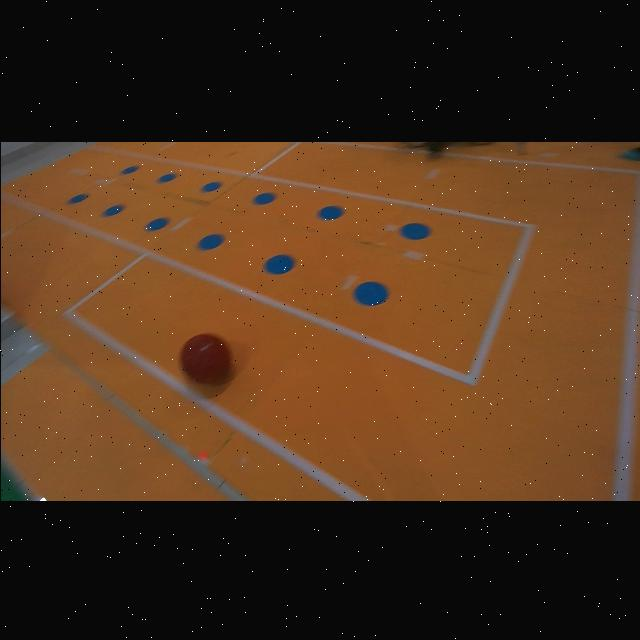R: (179, 333, 231, 382)
